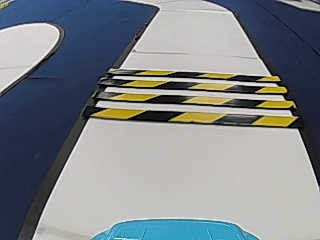bump: (120, 71, 264, 129)
